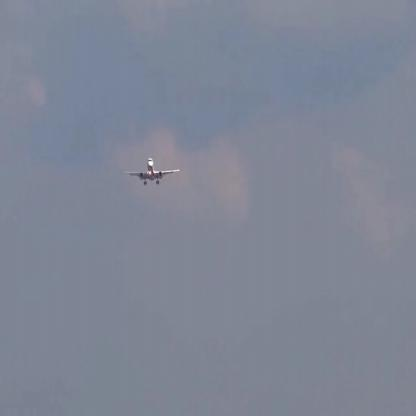CIV_Plane: (119, 153, 180, 187)
